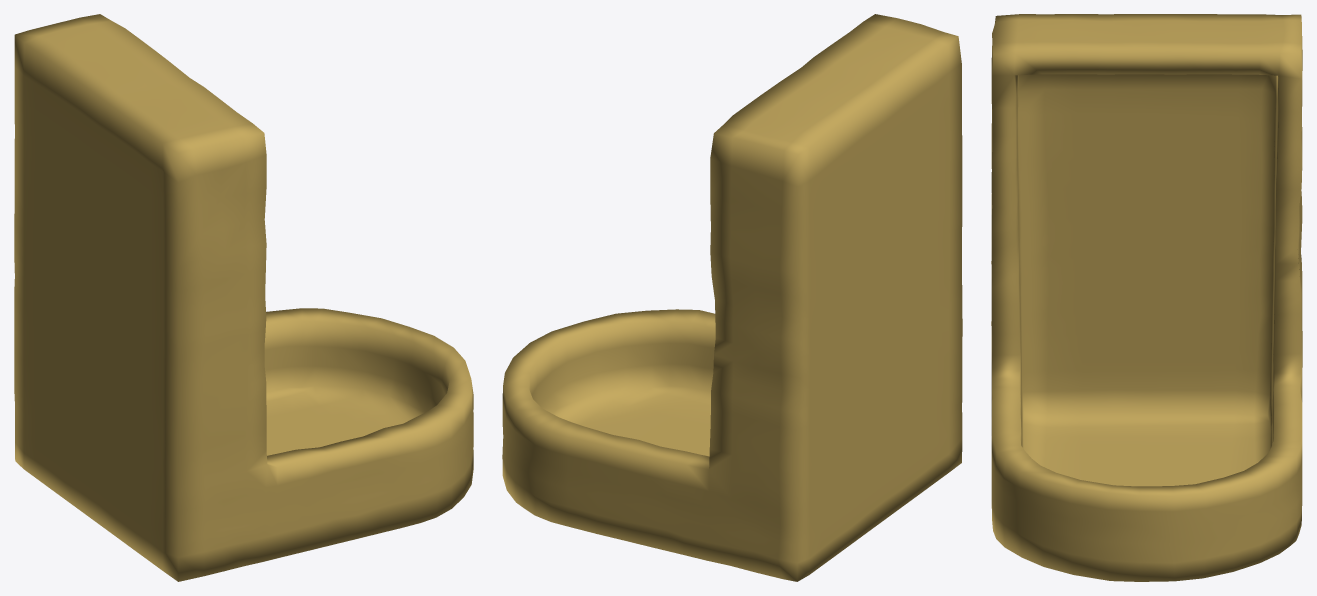
File: Fountain.fbx
3 renders of one model, left to right at view 1: azimuth 30°, elevation 25°; view 2: azimuth 150°, elevation 25°; view 3: azimuth 270°, elevation 25°, orthographic. The views are drawn at different scales.
Parts seen in each view (by area): view 1: Fountain 1; view 2: Fountain 1; view 3: Fountain 1.
Part boxes in pixels (x1,y1,x2,y2): Fountain 1: (14,14,473,581); Fountain 1: (502,14,962,581); Fountain 1: (991,14,1302,581).
Size of the model in its own units: 185 by 213 by 148.
